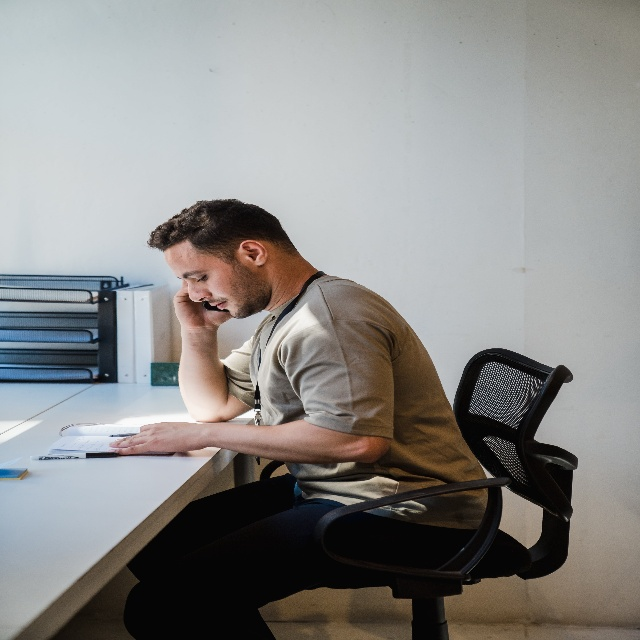Sin_guantes: (105, 422, 212, 447), (174, 286, 232, 326)
